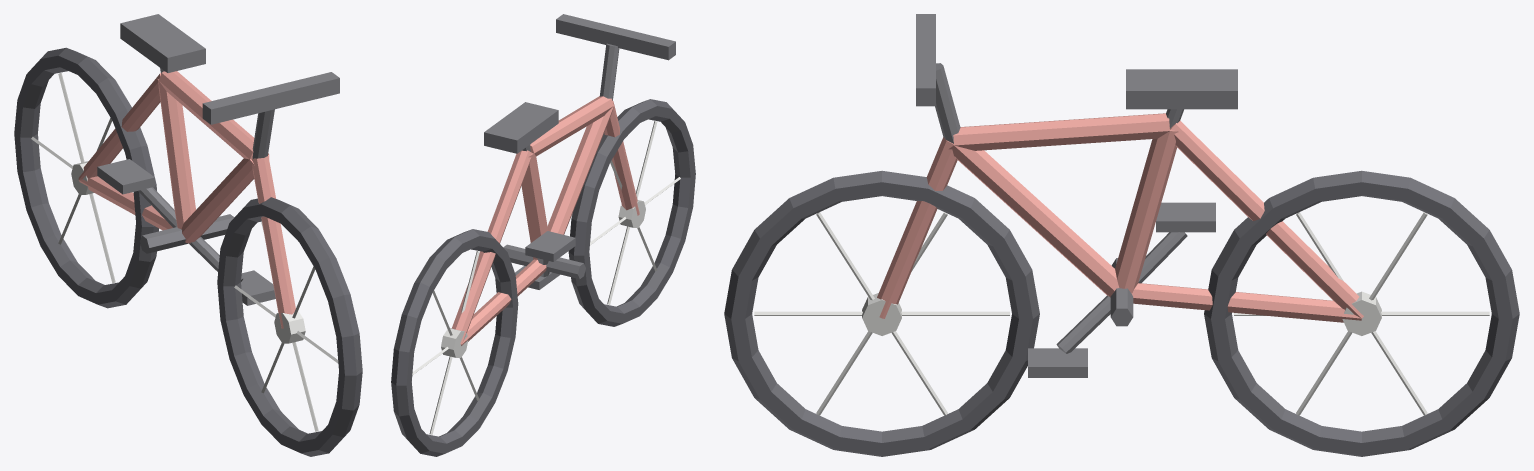
The model's file is Vehicle_Bike_A.fbx.
3 views of the same model, side by side, from view 1: azimuth 30°, elevation 25°; view 2: azimuth 150°, elevation 25°; view 3: azimuth 270°, elevation 25° (orthographic). The views are drawn at different scales.
Parts seen in each view (by area): view 1: Vehicle_Bike_A; view 2: Vehicle_Bike_A; view 3: Vehicle_Bike_A.
Boxes of the visible parts, x1=… form: Vehicle_Bike_A: x1=14, y1=14, x2=362, y2=456; Vehicle_Bike_A: x1=391, y1=14, x2=695, y2=456; Vehicle_Bike_A: x1=724, y1=14, x2=1519, y2=456.
Size of the model in its own units: 0.44 by 1.12 by 1.99.
